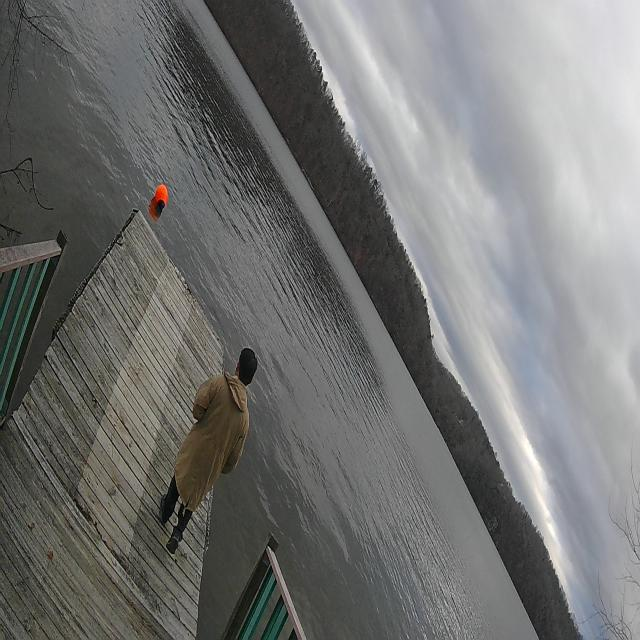Buoy: (152, 178, 170, 214)
